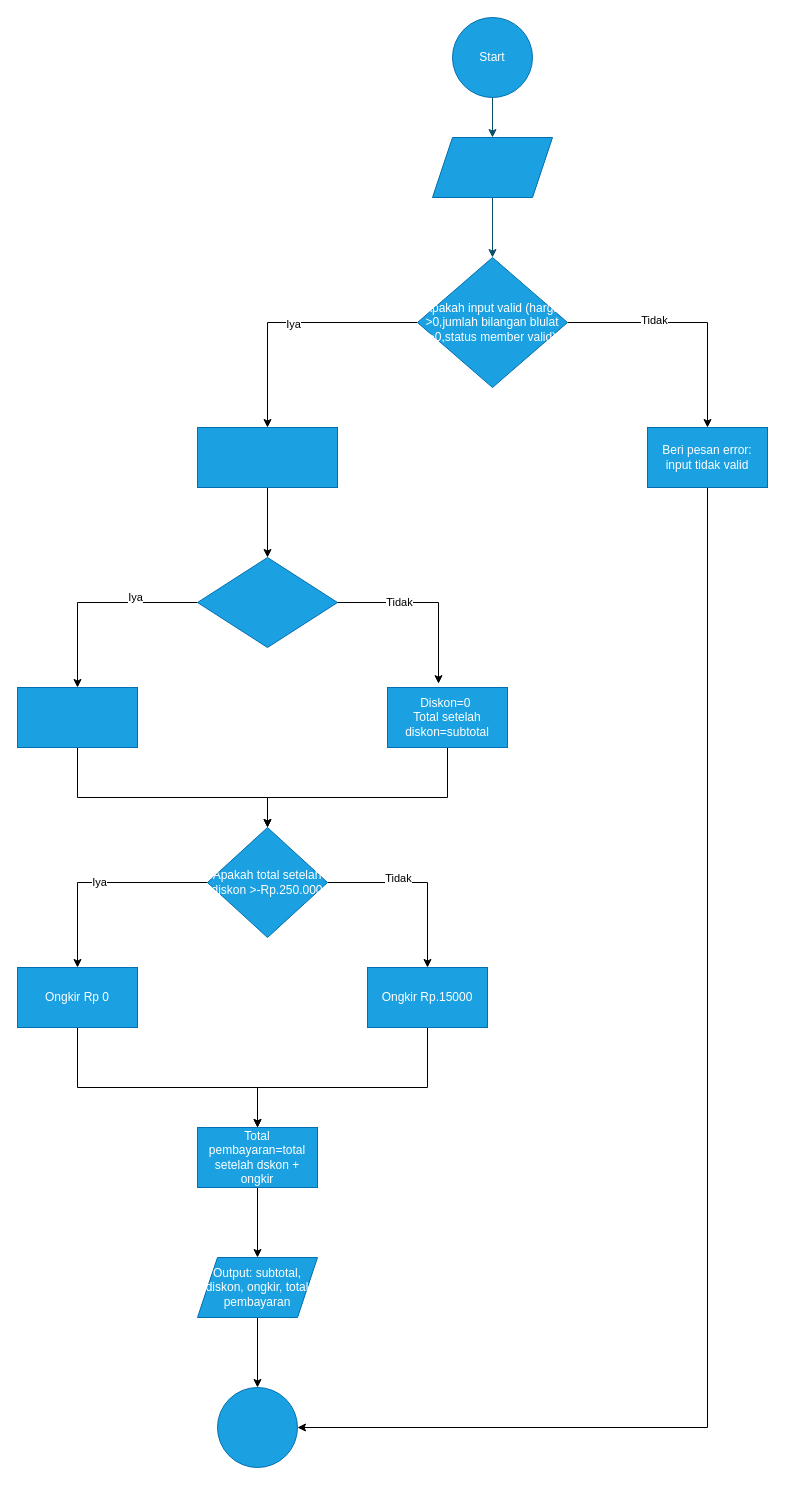
Some shapes in this 785 by 1485 pixel diagram are drawn without their labels. The box of each missing label's shape, as (x1, y1, x2, y2) in pixels:
Diskon=10%xsubtotal Total setelah diskon=subtotal-diskon: (16, 686, 138, 748)
End: (216, 1386, 298, 1468)
Input :Harga produk,jumlah produk dan status member: (432, 136, 552, 198)
Status Member: Is member: (196, 556, 338, 648)
Subtotal=Harga*Jumlah: (196, 426, 338, 488)
